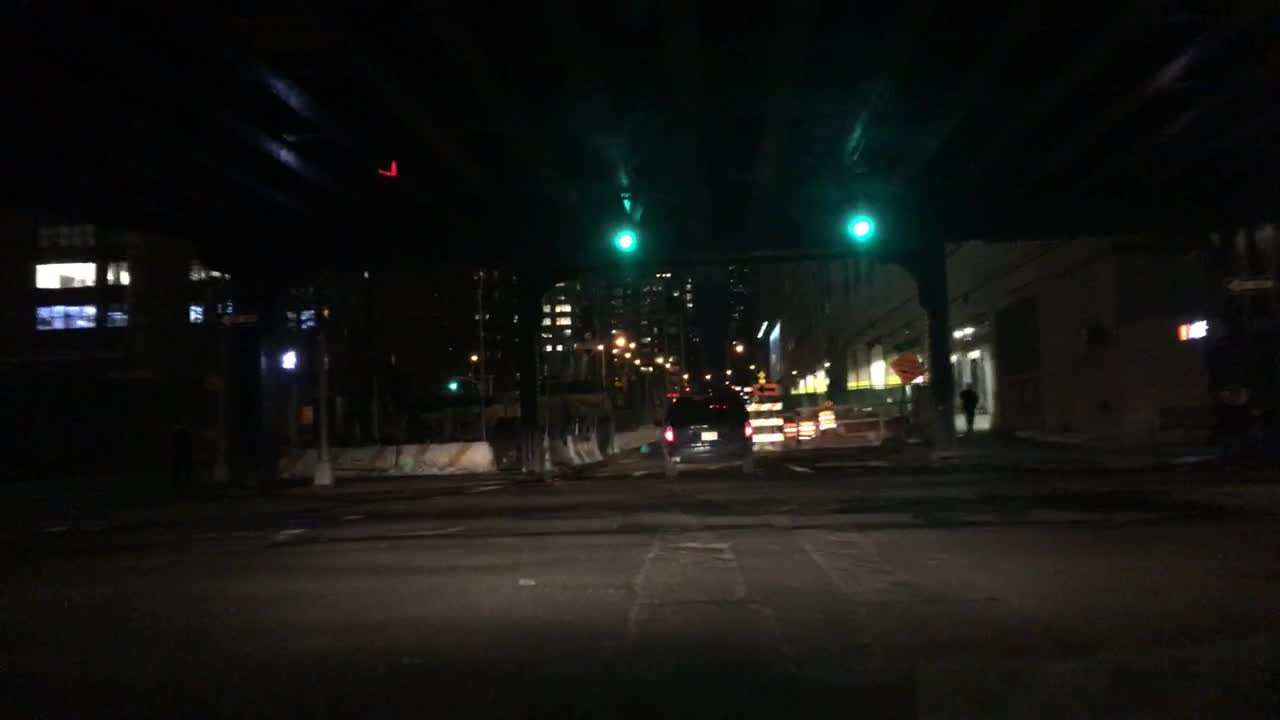car: (661, 378, 756, 481)
person: (957, 379, 981, 431)
traffic light: (844, 208, 878, 240), (376, 157, 396, 207), (613, 228, 636, 254), (273, 349, 300, 369), (445, 379, 459, 395)
traffic sign: (889, 351, 922, 386), (1225, 277, 1275, 295), (217, 313, 257, 328), (752, 384, 778, 398)
